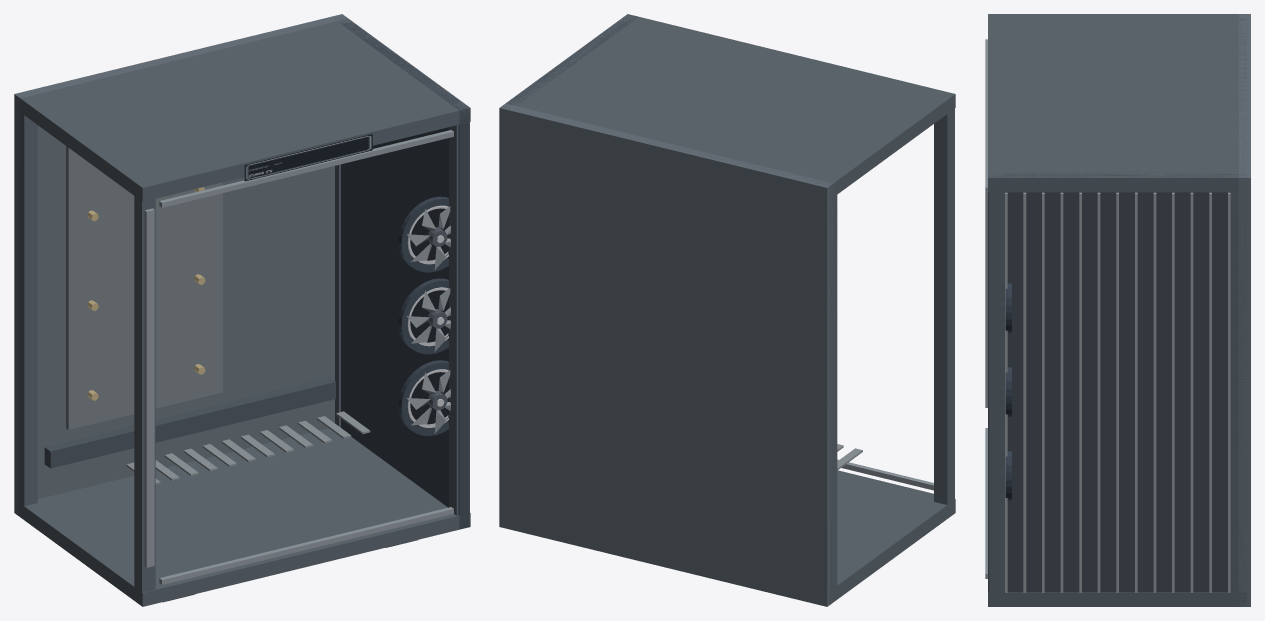
The model's file is case_chasis_lian_li_lancool_216_mesh.glb.
3 views of the same model, side by side, from view 1: azimuth 30°, elevation 25°; view 2: azimuth 150°, elevation 25°; view 3: azimuth 270°, elevation 25° (orthographic). The views are drawn at different scales.
Visible parts, largest first — view 1: n2, n1, n3, n5, n9, n7, n10, n8, n12, n0, n11, n13; view 2: n1, n2, n3, n9; view 3: n3, n2, n4, n1, n9, n10.
Part boxes in pixels (x1,y1,x2,y2): n2: [16, 15, 470, 606]; n1: [14, 14, 347, 516]; n3: [335, 19, 469, 529]; n5: [66, 146, 222, 429]; n9: [144, 130, 453, 584]; n7: [44, 377, 335, 468]; n10: [398, 196, 448, 436]; n8: [126, 411, 370, 484]; n12: [407, 206, 450, 433]; n0: [244, 134, 372, 181]; n11: [407, 205, 448, 427]; n13: [428, 227, 447, 410]; n1: [499, 103, 833, 606]; n2: [502, 14, 955, 605]; n3: [503, 15, 638, 108]; n9: [837, 459, 933, 490]; n3: [988, 172, 1246, 592]; n2: [988, 14, 1247, 606]; n4: [1005, 192, 1230, 592]; n1: [1238, 14, 1250, 606]; n9: [985, 39, 987, 578]; n10: [1005, 283, 1011, 500].
Bounding box in the file's own units: 1.76 × 2.18 × 1.18.
Materials: 1 (1 with a texture image).
